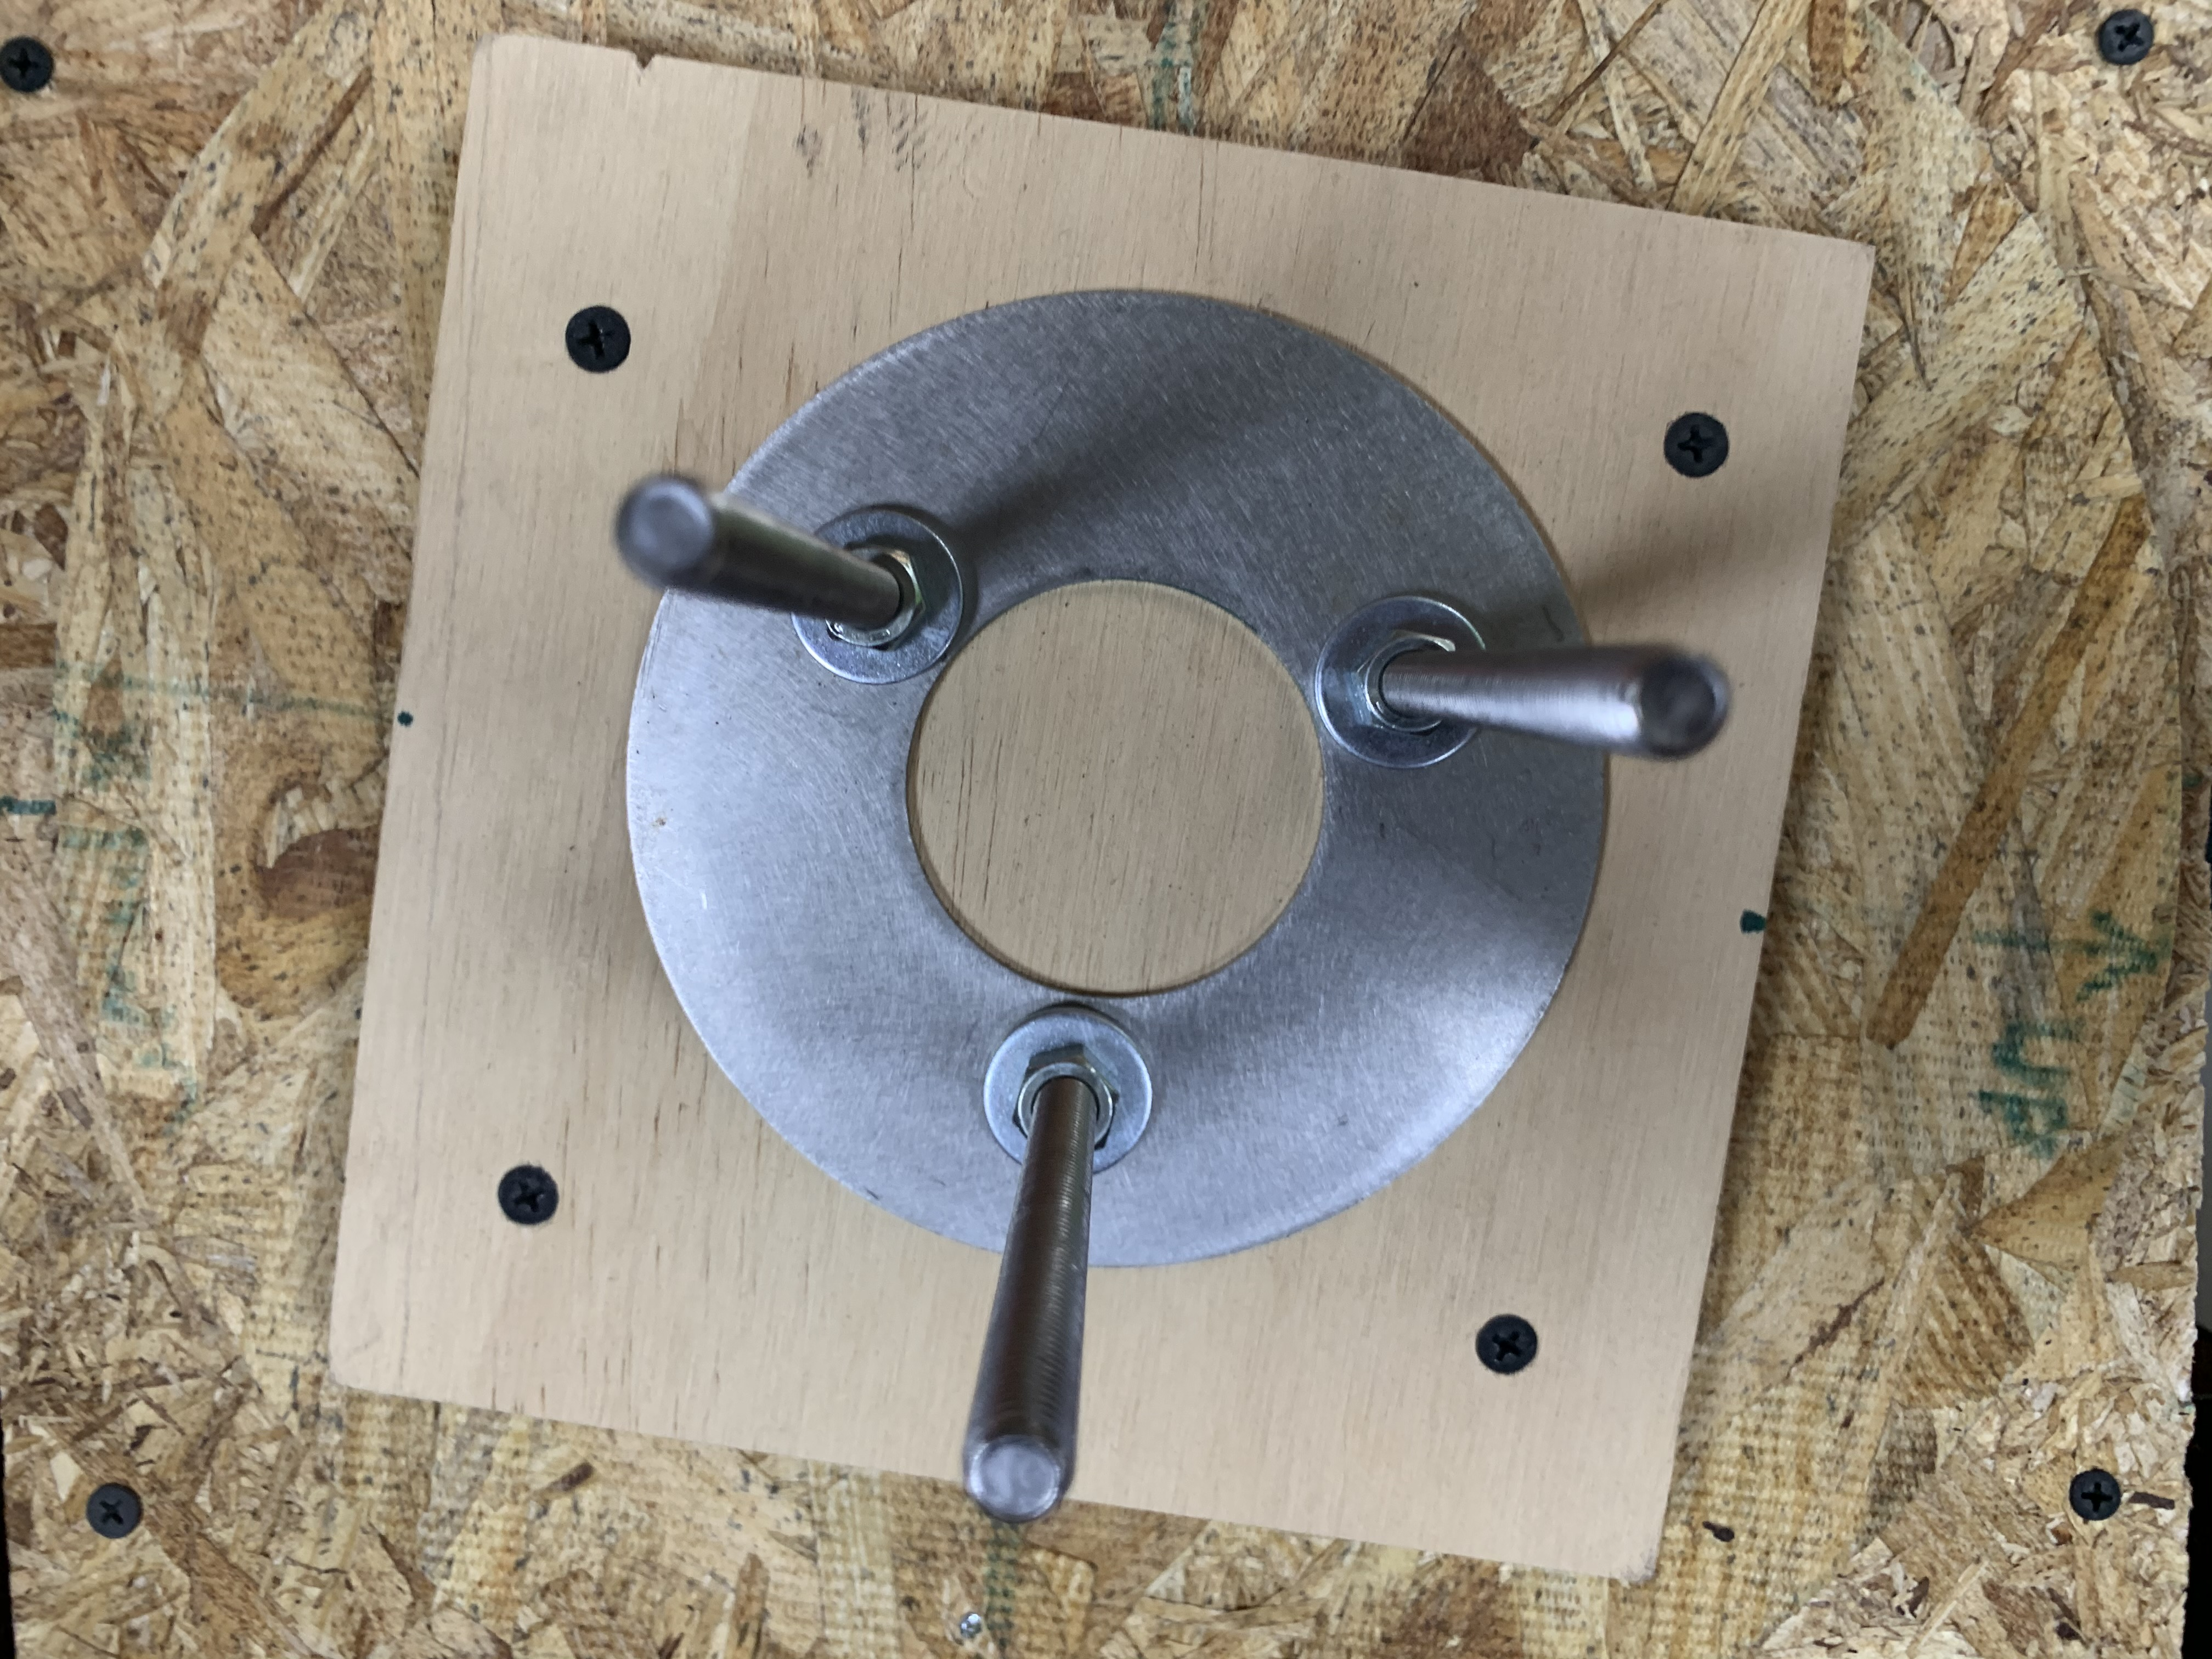bolt: (789, 504, 975, 692), (975, 1000, 1158, 1180), (1310, 587, 1484, 775)
